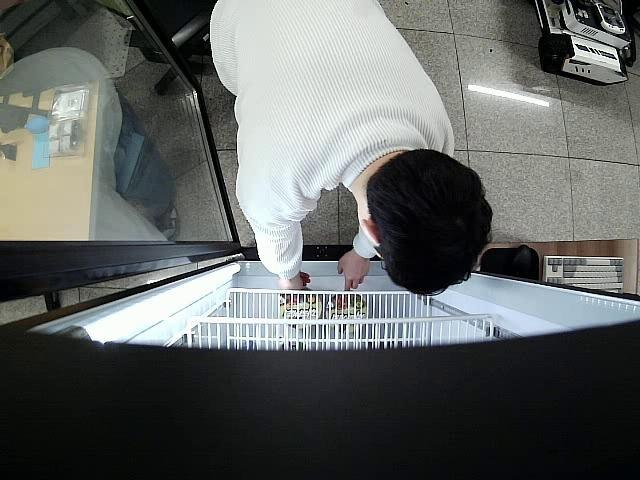03_chapagetti_L: (280, 291, 322, 322)
